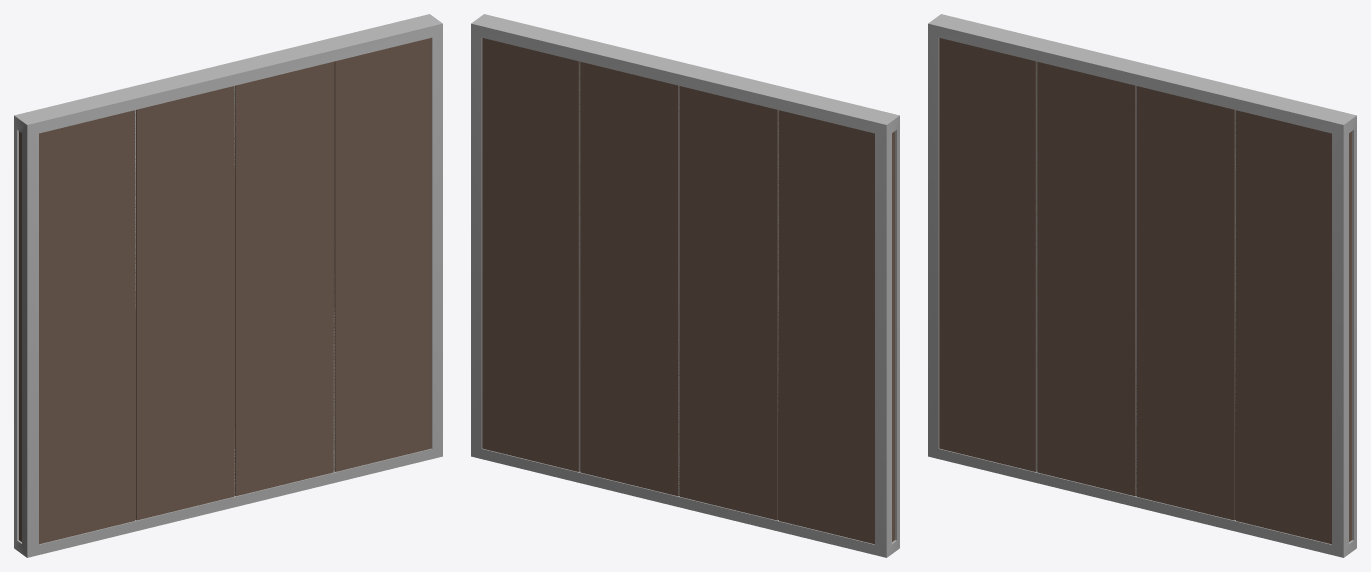
Rendered from Wall_Modular.fbx.
The picture shows the model from 3 angles, left to right: view 1: azimuth 30°, elevation 25°; view 2: azimuth 150°, elevation 25°; view 3: azimuth 330°, elevation 25°; orthographic projection.
Visible parts, largest first — view 1: Wood_Panel_2, Wood_Panel_1, Wood_Panel_3, Wood_Panel_4, Wall_Lining, Interior_Wood_Panel; view 2: Wood_Panel_2, Wood_Panel_1, Wood_Panel_3, Wood_Panel_4, Wall_Lining, Interior_Wood_Panel; view 3: Wood_Panel_1, Wood_Panel_2, Wood_Panel_4, Wood_Panel_3, Wall_Lining, Interior_Wood_Panel.
Boxes of the visible parts, left/top/right/bottom form: Wood_Panel_2: left=235, top=61, right=333, bottom=496; Wood_Panel_1: left=136, top=86, right=234, bottom=520; Wood_Panel_3: left=334, top=38, right=431, bottom=471; Wood_Panel_4: left=39, top=110, right=134, bottom=544; Wall_Lining: left=14, top=14, right=442, bottom=557; Interior_Wood_Panel: left=19, top=61, right=334, bottom=541; Wood_Panel_2: left=580, top=61, right=678, bottom=496; Wood_Panel_1: left=679, top=86, right=777, bottom=520; Wood_Panel_3: left=482, top=38, right=579, bottom=471; Wood_Panel_4: left=779, top=110, right=874, bottom=544; Wall_Lining: left=471, top=14, right=899, bottom=557; Interior_Wood_Panel: left=579, top=61, right=894, bottom=541; Wood_Panel_1: left=1037, top=61, right=1135, bottom=496; Wood_Panel_2: left=1136, top=86, right=1234, bottom=520; Wood_Panel_4: left=939, top=38, right=1036, bottom=471; Wood_Panel_3: left=1236, top=110, right=1331, bottom=544; Wall_Lining: left=928, top=14, right=1356, bottom=557; Interior_Wood_Panel: left=1036, top=61, right=1351, bottom=541.
Size of the model in its own units: 5.05 by 5 by 0.3.
